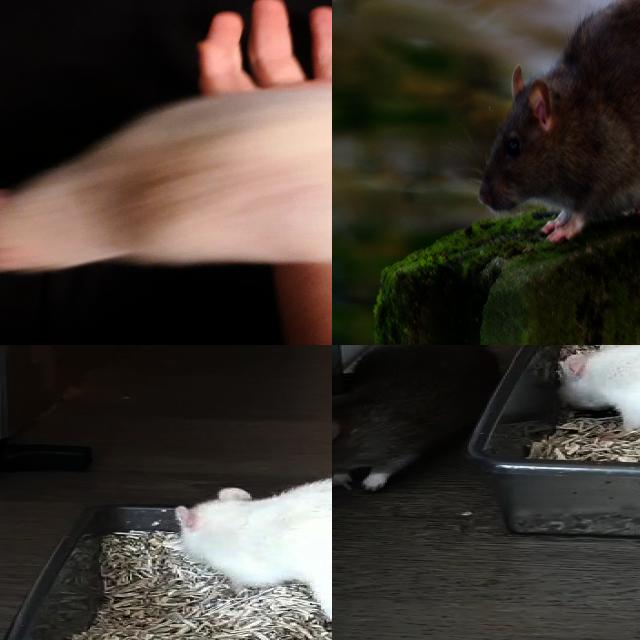rat: (0, 85, 332, 274), (474, 0, 640, 236), (166, 466, 332, 639), (332, 345, 501, 499)
